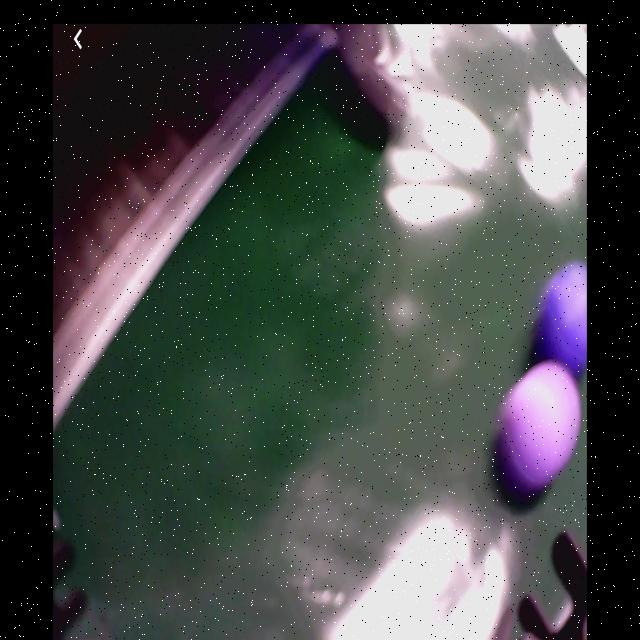ball: (501, 366, 582, 491), (539, 267, 587, 372)
